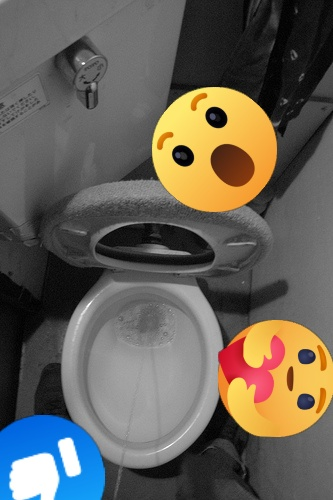care: (218, 320, 333, 437)
like: (0, 415, 105, 500)
wow: (152, 87, 277, 212)
